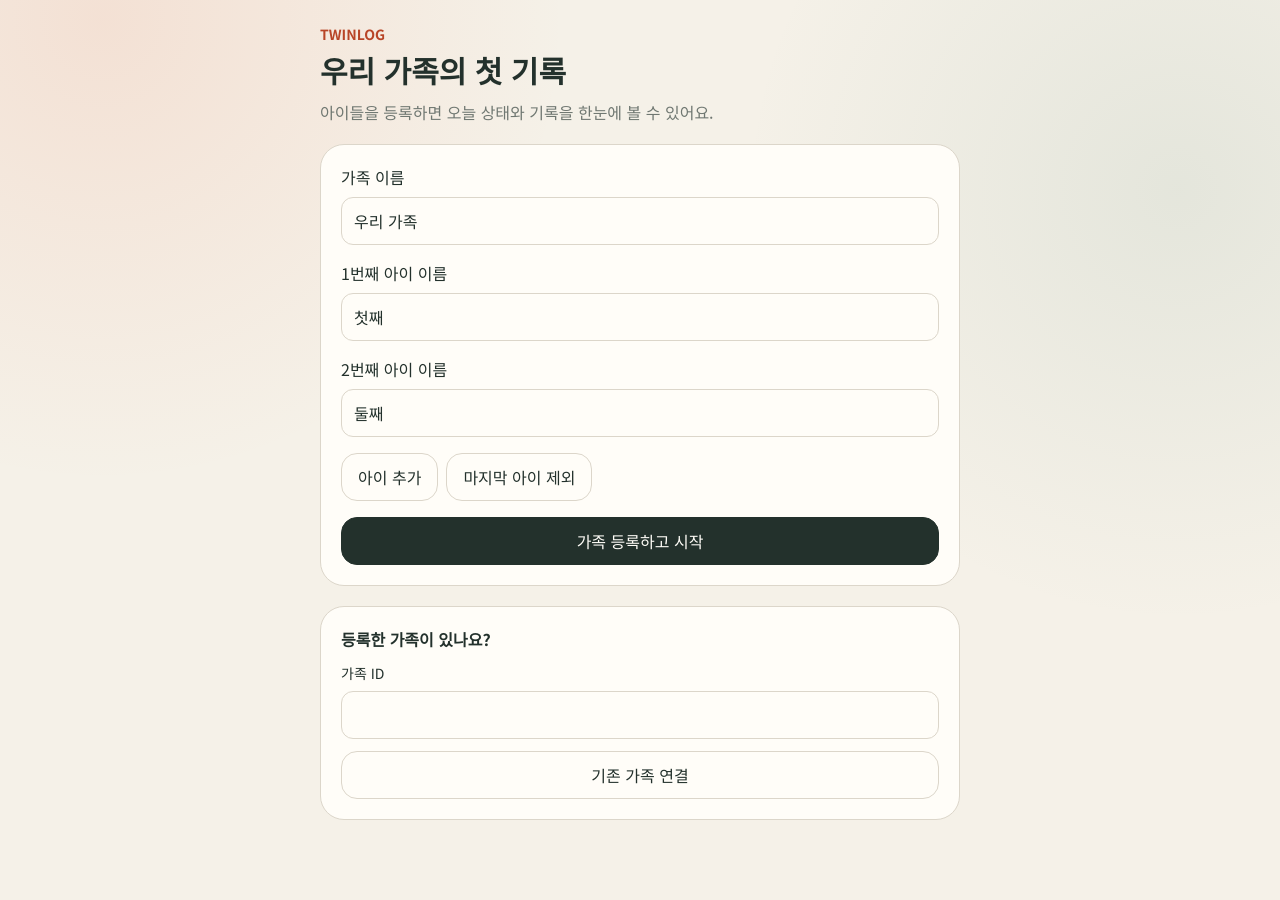
Test: family workspace › shows registration errors and supports one or more children
Click the button "아이 추가".
click(390, 477)  # box [341, 453, 438, 501]
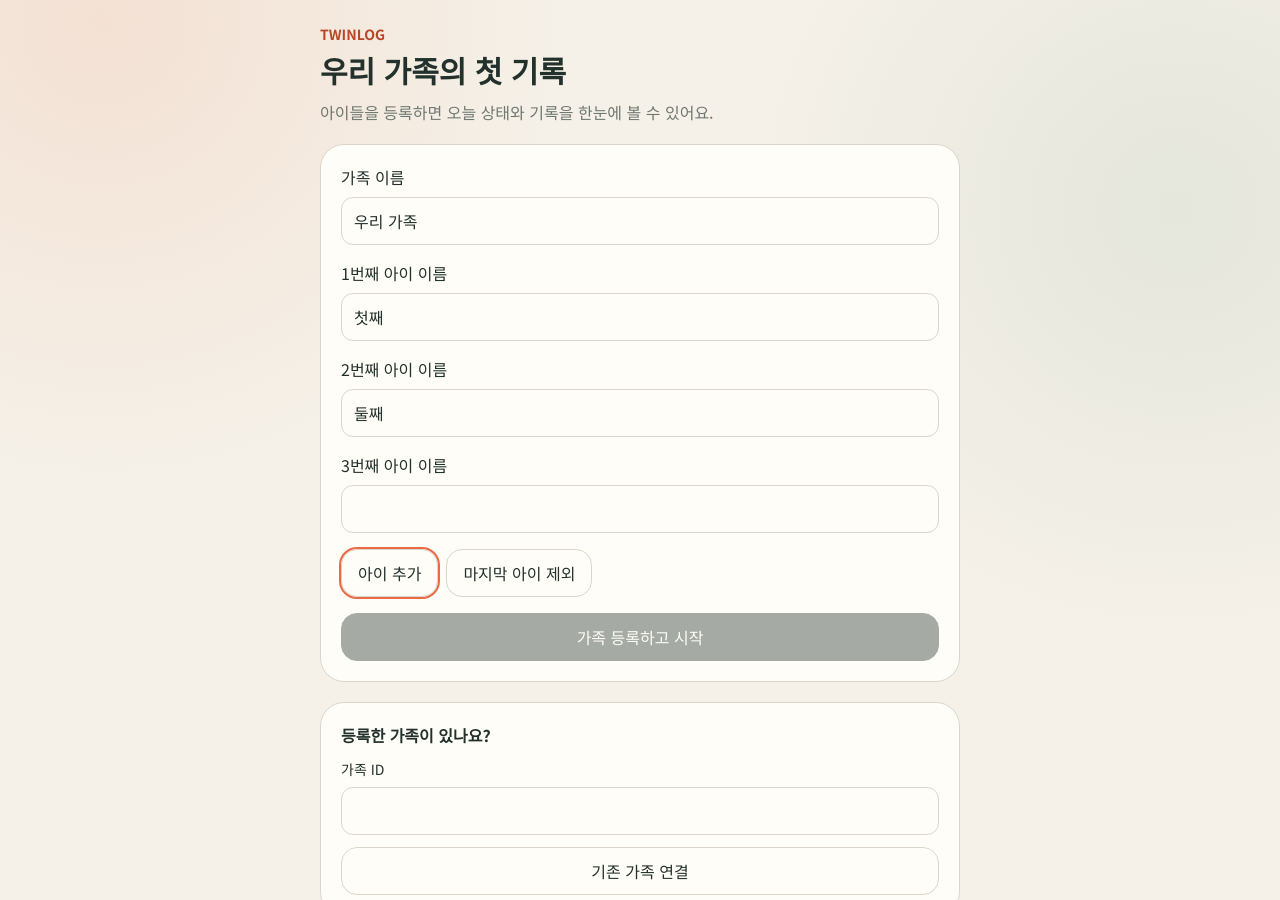
Type "셋째" into the field labelled "3번째 아이 이름".
click(640, 509); type("셋째")  # box [341, 485, 939, 533]
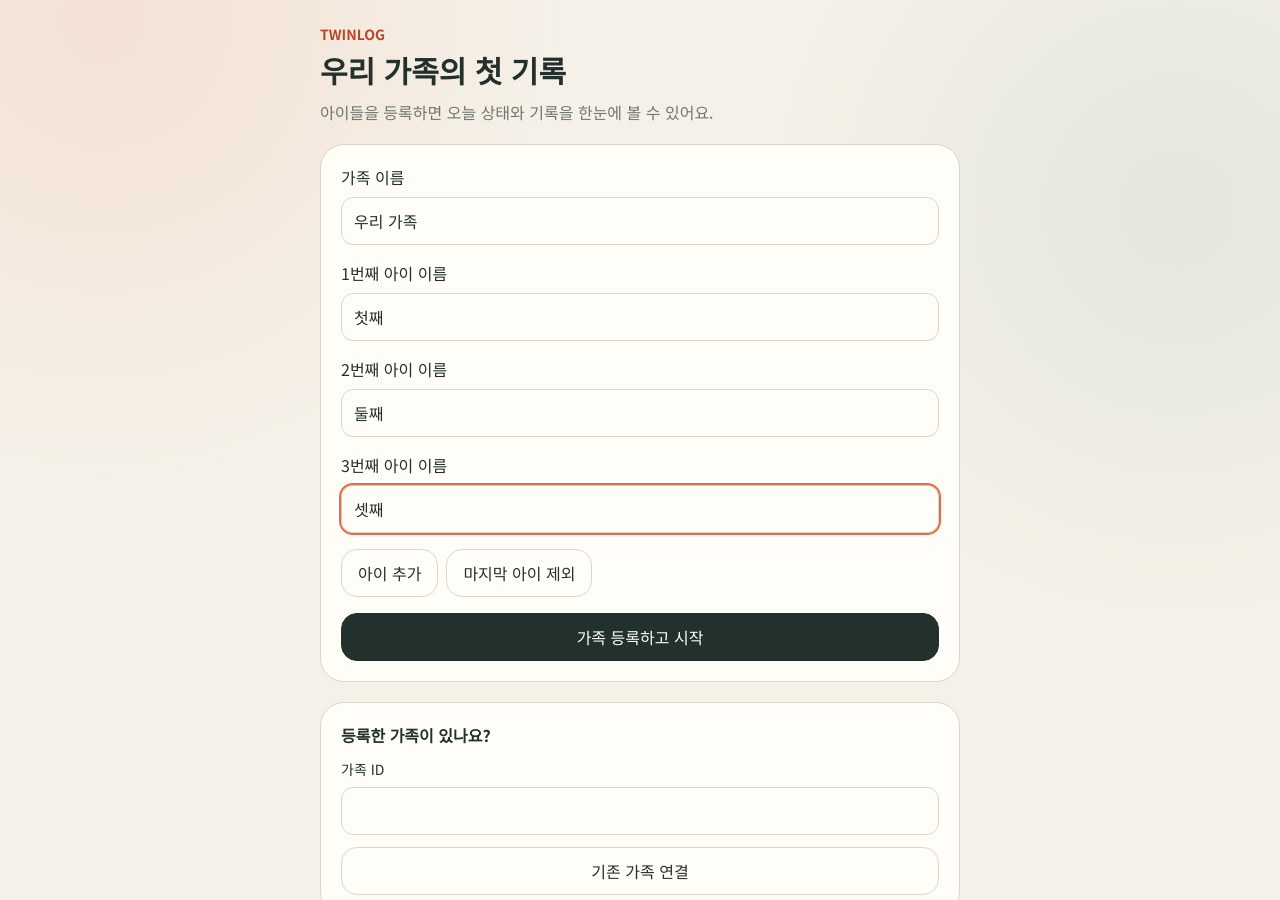
Click the button "마지막 아이 제외".
click(519, 573)  # box [446, 549, 592, 597]
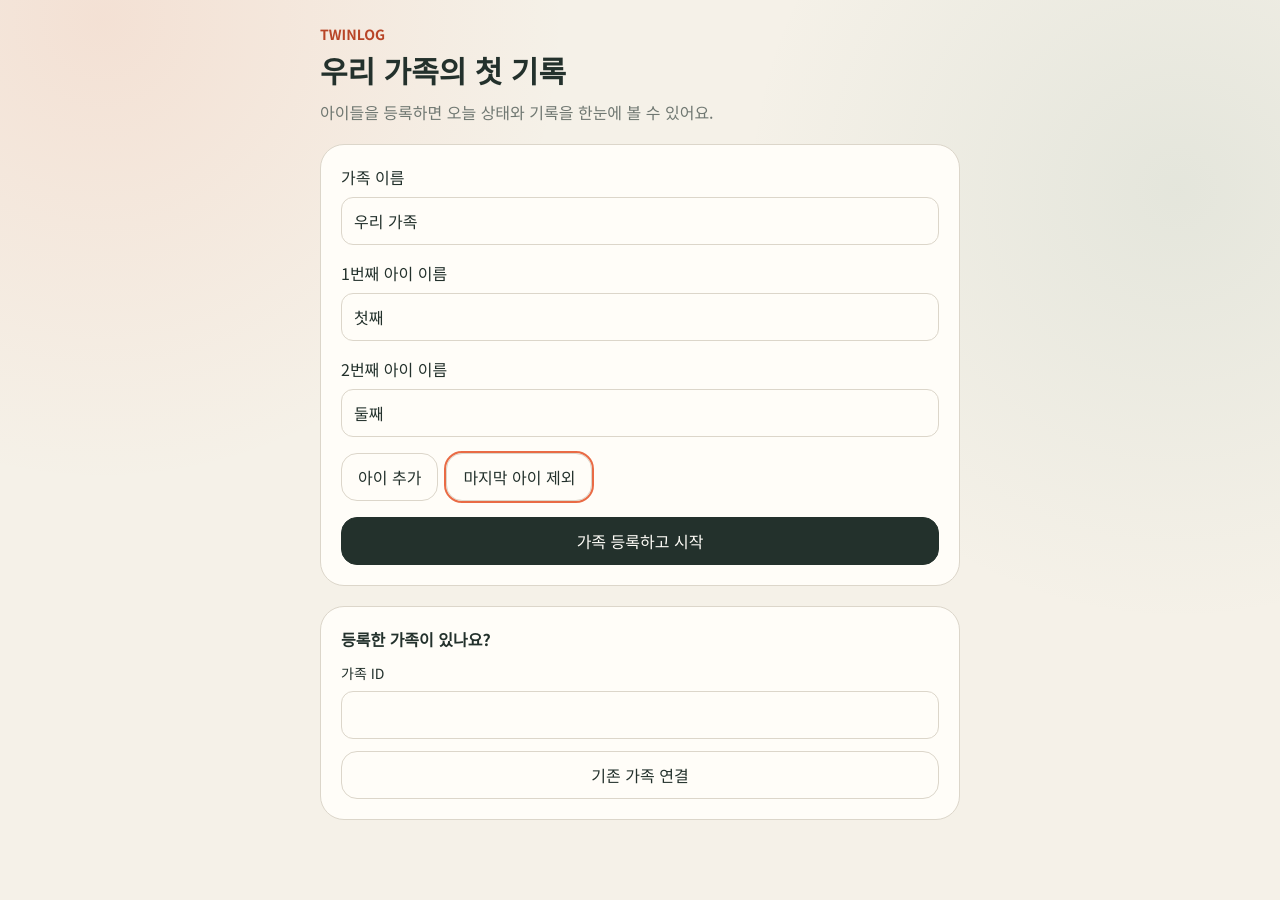
Click the button "가족 등록하고 시작".
click(640, 541)  # box [341, 517, 939, 565]
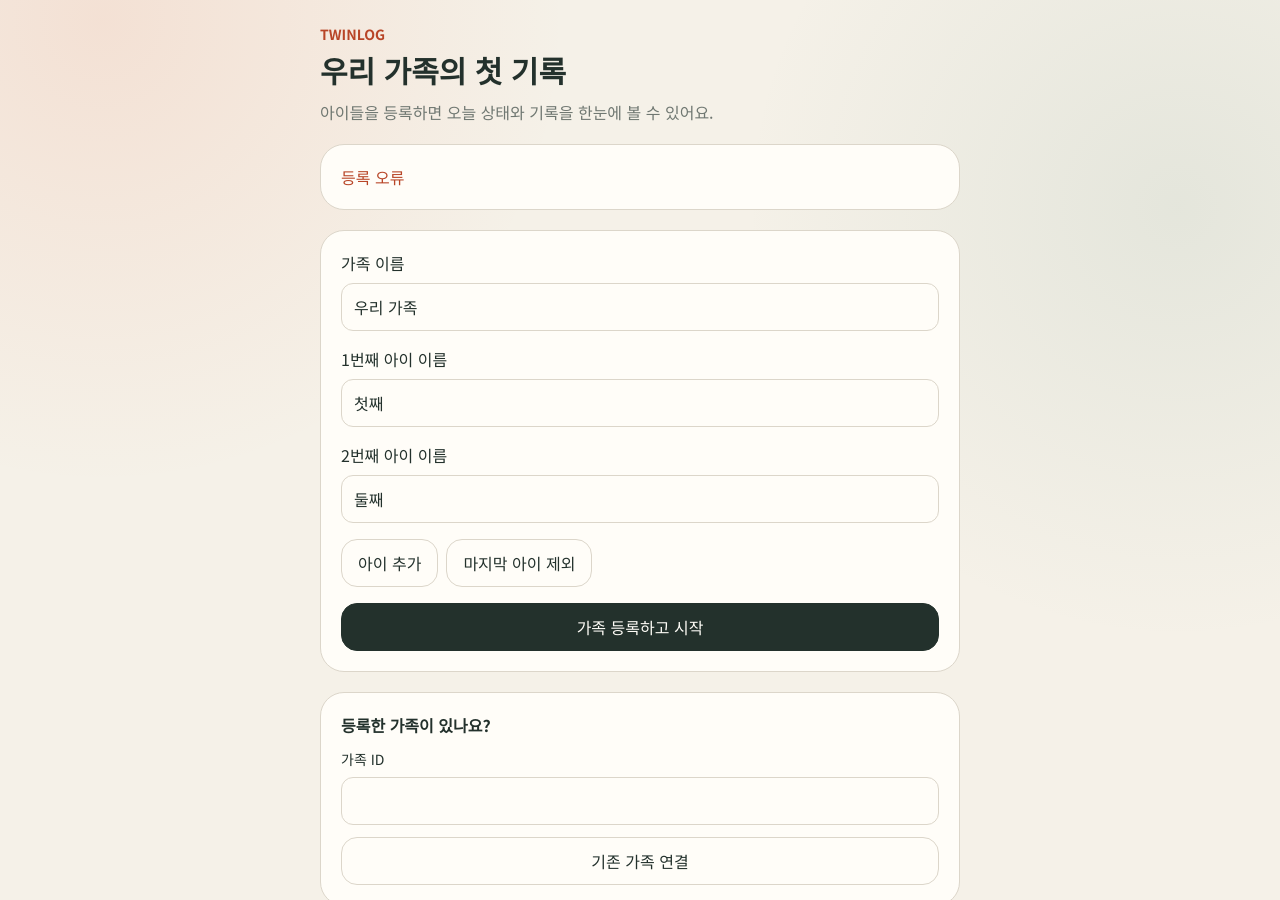
Now the message reads "등록 오류", box [341, 165, 404, 189]
